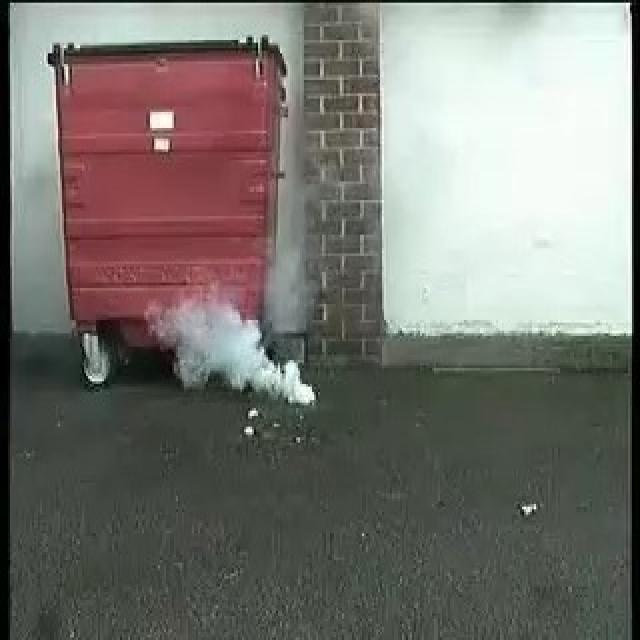Smoke: (160, 293, 318, 402)
